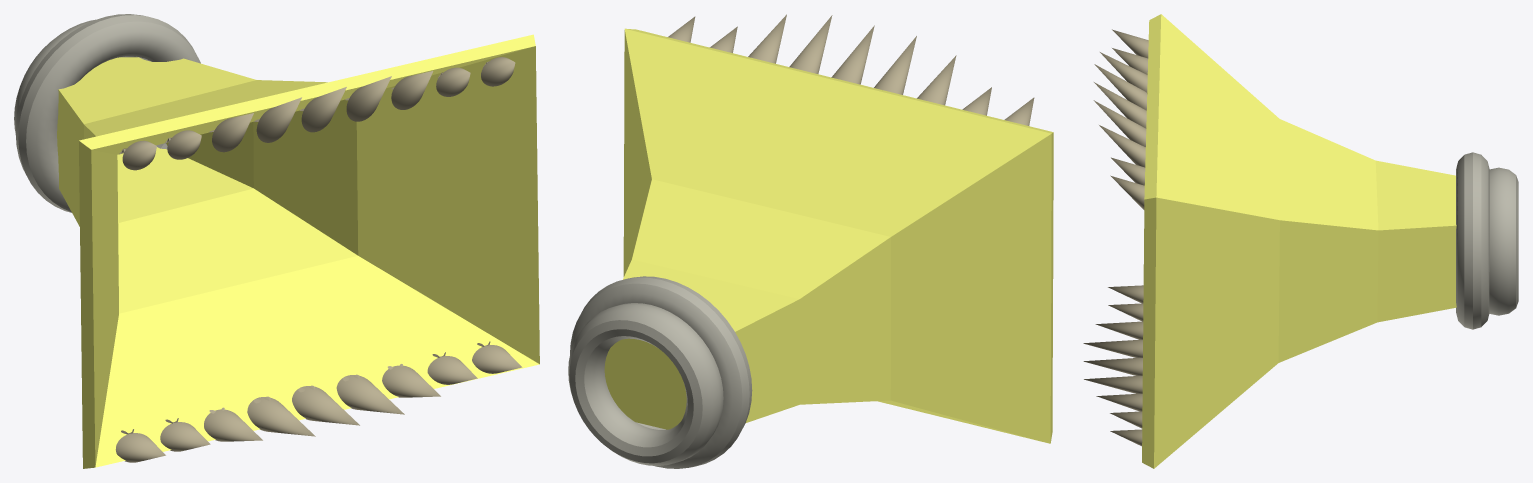
The model's file is vacuum-head.fbx.
3 views of the same model, side by side, from view 1: azimuth 30°, elevation 25°; view 2: azimuth 150°, elevation 25°; view 3: azimuth 270°, elevation 25° (orthographic). The views are drawn at different scales.
Visible parts, largest first — view 1: Torus; view 2: Torus; view 3: Torus.
Part boxes in pixels (<box>): Torus: <box>14,14,539,468</box>; Torus: <box>568,14,1053,468</box>; Torus: <box>1083,14,1518,468</box>.
Size of the model in its own units: 65.48 by 49.39 by 66.05.
